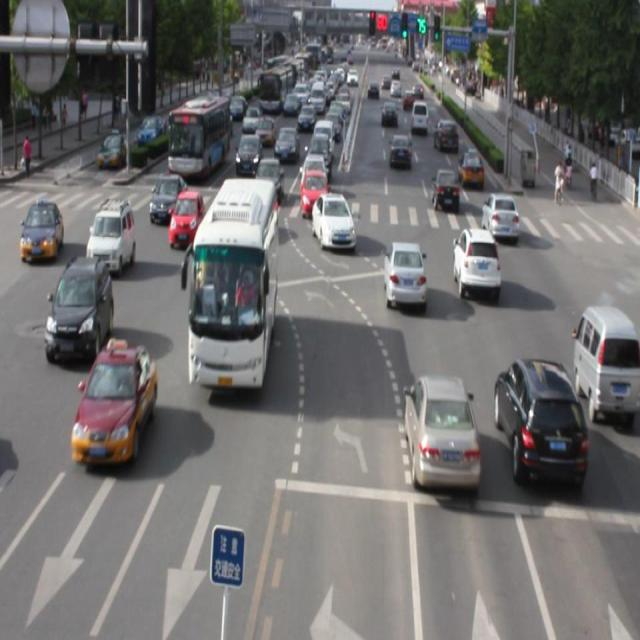car: (494, 355, 584, 485), (71, 340, 158, 465), (404, 372, 478, 488), (46, 255, 113, 361), (87, 196, 135, 272), (451, 225, 499, 295), (383, 237, 425, 308), (311, 196, 355, 253), (169, 188, 203, 248), (481, 190, 517, 237), (150, 174, 185, 222)
truck: (572, 300, 640, 419)
van: (188, 177, 276, 385)
